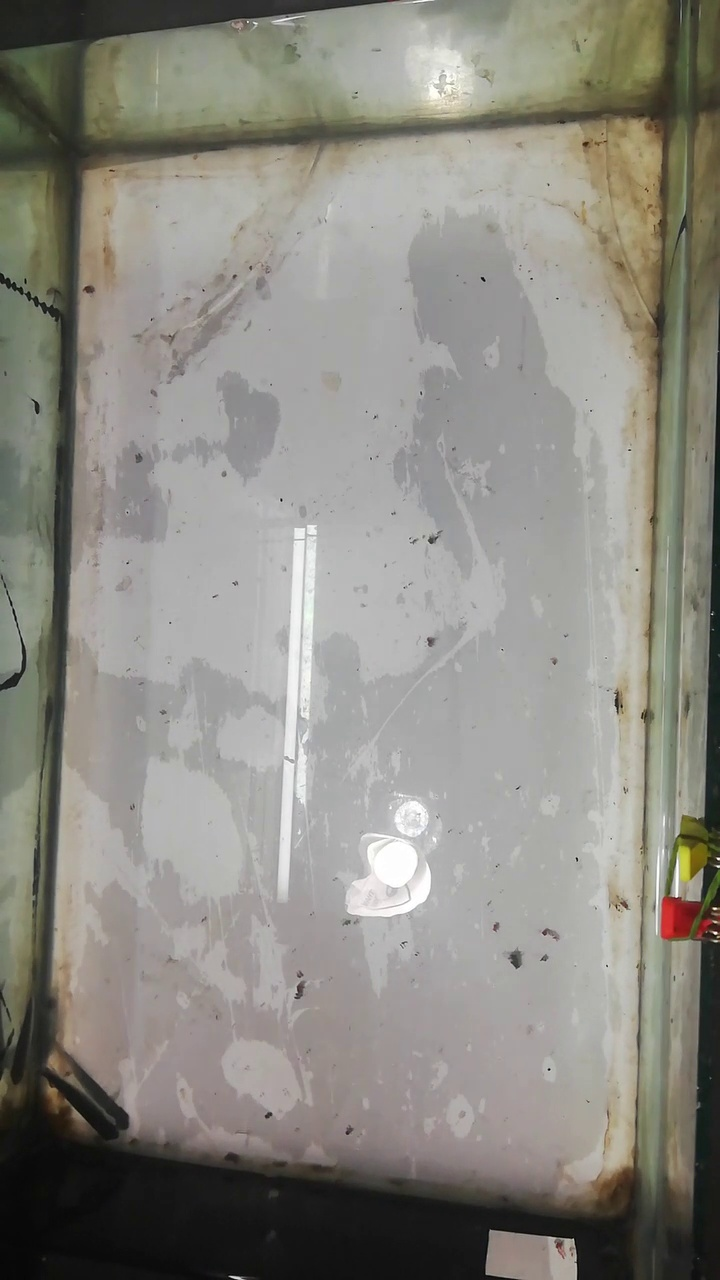fish1: (41, 1068, 129, 1145)
fish2: (11, 992, 38, 1082)
